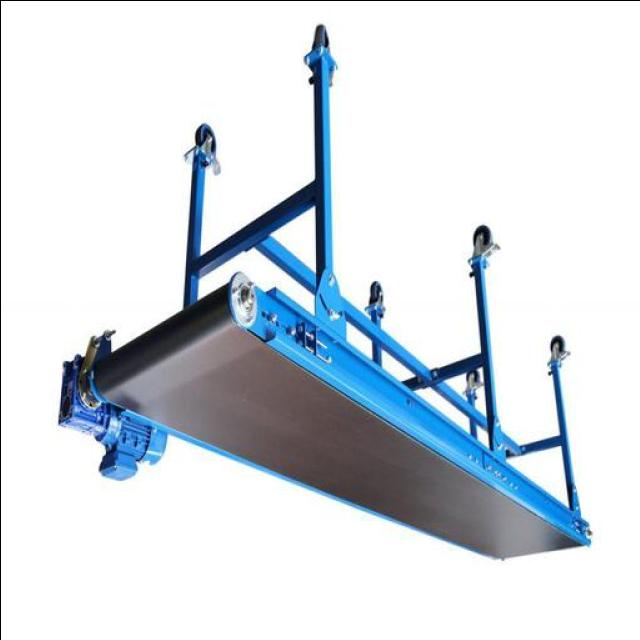conveyor: (85, 277, 589, 561)
